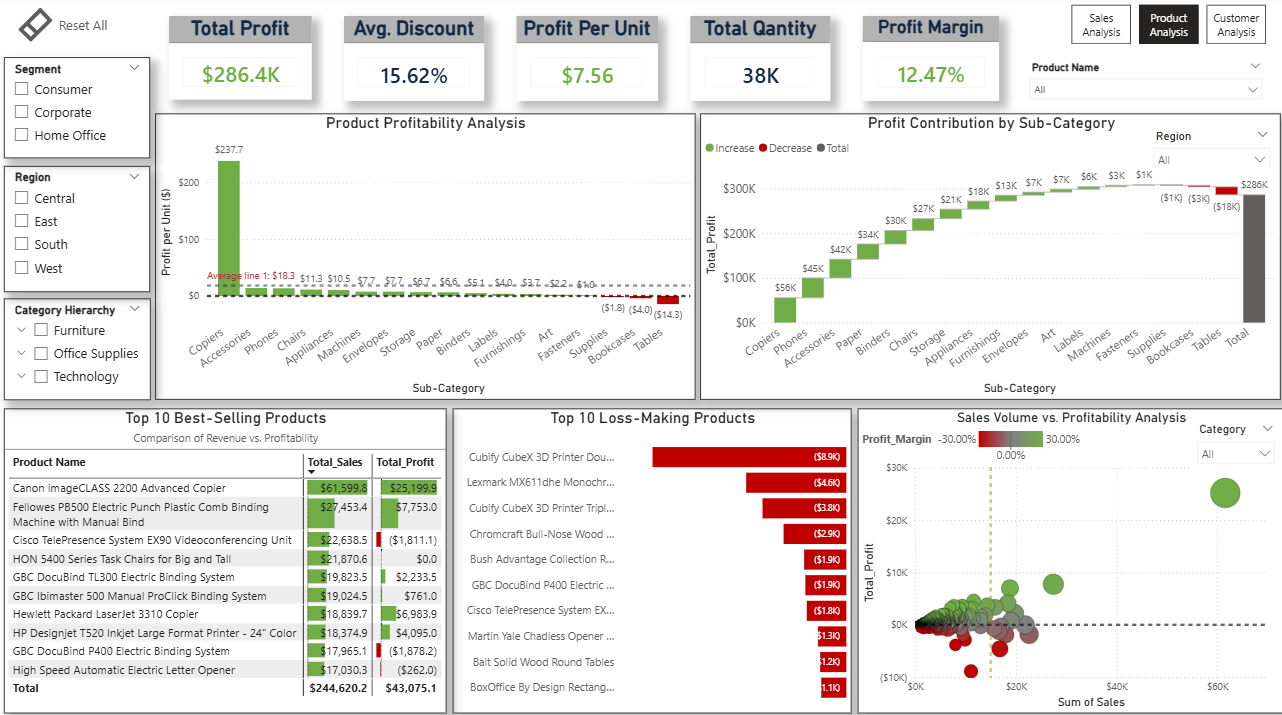

The dashboard page shown, as its layout file describes it:
{"tool":"powerbi","page":{"name":"Product Analysis","canvas":[1600,900],"ordinal":1},"visuals":[{"type":"clusteredColumnChart","title":"Product Profitability Analysis","fields":{"Category":["Superstore.Sub-Category"],"Y":["Measures!.Profit_Per_Unit"]},"box":[194.4,146.2,671.7,356.1],"z":0},{"type":"waterfallChart","title":"Profit Contribution by Sub-Category","fields":{"Category":["Superstore.Sub-Category"],"Y":["Measures!.Total_Profit"]},"box":[872.3,146.2,723.1,356.1],"z":0,"group":"g1"},{"type":"slicer","fields":{"Values":["Superstore.Region"]},"box":[1425.9,159.9,164.8,51.3],"z":1000,"group":"g1"},{"type":"clusteredBarChart","title":"Top 10 Loss-Making Products","fields":{"Category":["Superstore.Product Name"],"Y":["Measures!.Total_Profit"]},"box":[565.1,512.4,496,379.4],"z":1000},{"type":"pivotTable","title":"Top 10 Best-Selling Products","fields":{"Values":["Measures!.Total_Sales","Measures!.Total_Profit"],"Rows":["Superstore.Product Name"]},"box":[6.9,512.7,550.5,379.4],"z":2000},{"type":"slicer","fields":{"Values":["Superstore.Category Hierarchy.Category","Superstore.Category Hierarchy.Sub-Category"]},"box":[6.5,376.3,182.2,126.1],"z":3000},{"type":"slicer","fields":{"Values":["Superstore.Region"]},"box":[6.2,211.5,181.9,157],"z":4000},{"type":"slicer","fields":{"Values":["Superstore.Segment"]},"box":[6.2,76.2,181.9,126],"z":5000},{"type":"scatterChart","title":"Sales Volume vs. Profitability Analysis","fields":{"Category":["Superstore.Product Name"],"X":["Sum(Superstore.Sales)"],"Y":["Measures!.Total_Profit"],"Size":["Measures!.Total_Sales"]},"box":[1068.9,512.7,530.2,379.4],"z":5000,"group":"g2"},{"type":"group","id":"g1","title":"Group 1","box":[872.3,146.2,723.1,356.1],"z":6000},{"type":"group","id":"g2","title":"Group 2","box":[1068.9,512.7,530.2,379.4],"z":7000},{"type":"cardVisual","title":"Total Profit","fields":{"Data":["Measures!.Total_Profit"]},"box":[212.1,25.5,177.3,104.2],"z":8000},{"type":"slicer","fields":{"Values":["Superstore.Category"]},"box":[1480.9,525.3,116.6,63.8],"z":8001,"group":"g2"},{"type":"cardVisual","title":"Total Qantity","fields":{"Data":["Measures!.Total_Quantity"]},"box":[860.5,25.5,174.2,105.7],"z":9000},{"type":"cardVisual","title":"Avg. Discount","fields":{"Data":["Measures!.Avg_Discount"]},"box":[429.8,25.5,174.2,105.7],"z":10000},{"type":"cardVisual","title":"Profit Per Unit","fields":{"Data":["Measures!.Profit_Per_Unit"]},"box":[644.4,25.5,175.7,105.7],"z":11000},{"type":"cardVisual","title":"Profit Margin","fields":{"Data":["Measures!.Profit_Margin"]},"box":[1075.1,25.5,169.5,105.7],"z":12000},{"type":"pageNavigator","box":[1334.1,10.9,242.6,49.8],"z":13000},{"type":"slicer","fields":{"Values":["Superstore.Product Name"]},"box":[1271.9,76.2,309.4,52.9],"z":14000},{"type":"actionButton","box":[20.9,10.4,168.7,50.4],"z":16000}]}

Visuals, with their boxes in screenshot pixels (x1, y1, x2, y2), scaled from the page's 1600x900 canvas onto the 1282x715 screenshot:
"Product Profitability Analysis" clusteredColumnChart: bbox=(156, 116, 694, 399)
"Profit Contribution by Sub-Category" waterfallChart: bbox=(699, 116, 1278, 399)
slicer - Superstore.Region: bbox=(1143, 127, 1275, 168)
"Top 10 Loss-Making Products" clusteredBarChart: bbox=(453, 407, 850, 708)
"Top 10 Best-Selling Products" pivotTable: bbox=(6, 407, 447, 709)
slicer - Superstore.Category Hierarchy.Category x Superstore.Category Hierarchy.Sub-Category: bbox=(5, 299, 151, 399)
slicer - Superstore.Region: bbox=(5, 168, 151, 293)
slicer - Superstore.Segment: bbox=(5, 61, 151, 161)
"Sales Volume vs. Profitability Analysis" scatterChart: bbox=(856, 407, 1281, 709)
"Group 1" group: bbox=(699, 116, 1278, 399)
"Group 2" group: bbox=(856, 407, 1281, 709)
"Total Profit" cardVisual: bbox=(170, 20, 312, 103)
slicer - Superstore.Category: bbox=(1187, 417, 1280, 468)
"Total Qantity" cardVisual: bbox=(689, 20, 829, 104)
"Avg. Discount" cardVisual: bbox=(344, 20, 484, 104)
"Profit Per Unit" cardVisual: bbox=(516, 20, 657, 104)
"Profit Margin" cardVisual: bbox=(861, 20, 997, 104)
pageNavigator: bbox=(1069, 9, 1263, 48)
slicer - Superstore.Product Name: bbox=(1019, 61, 1267, 103)
actionButton: bbox=(17, 8, 152, 48)
